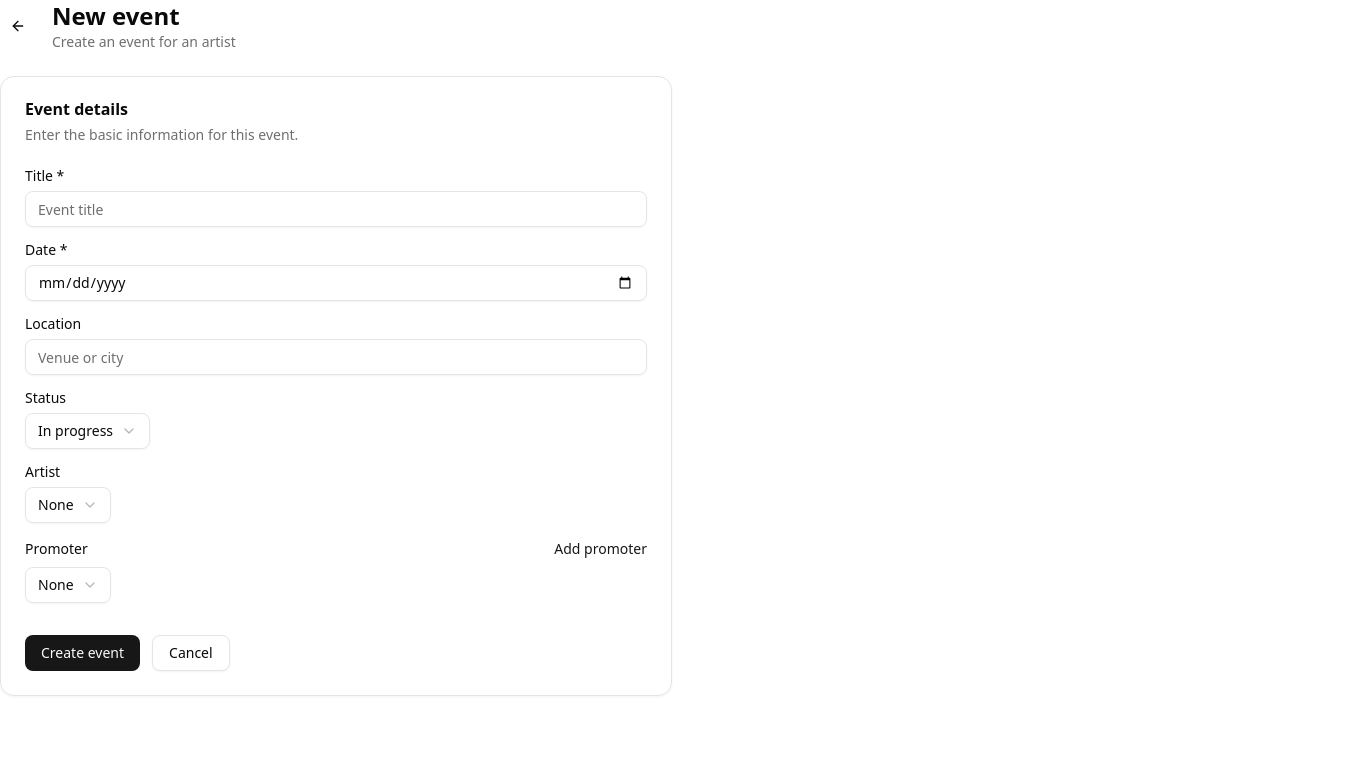
Scenario: adds a promoter from the new event form, selects it and keeps the event draft
Later steps or results of the test are not shown.
expect the button "Add promoter" is enabled: met, box [554,539,647,559]
In the field labelled "Title *": (336, 209) [25,191,647,227], type "Synthetic Night"
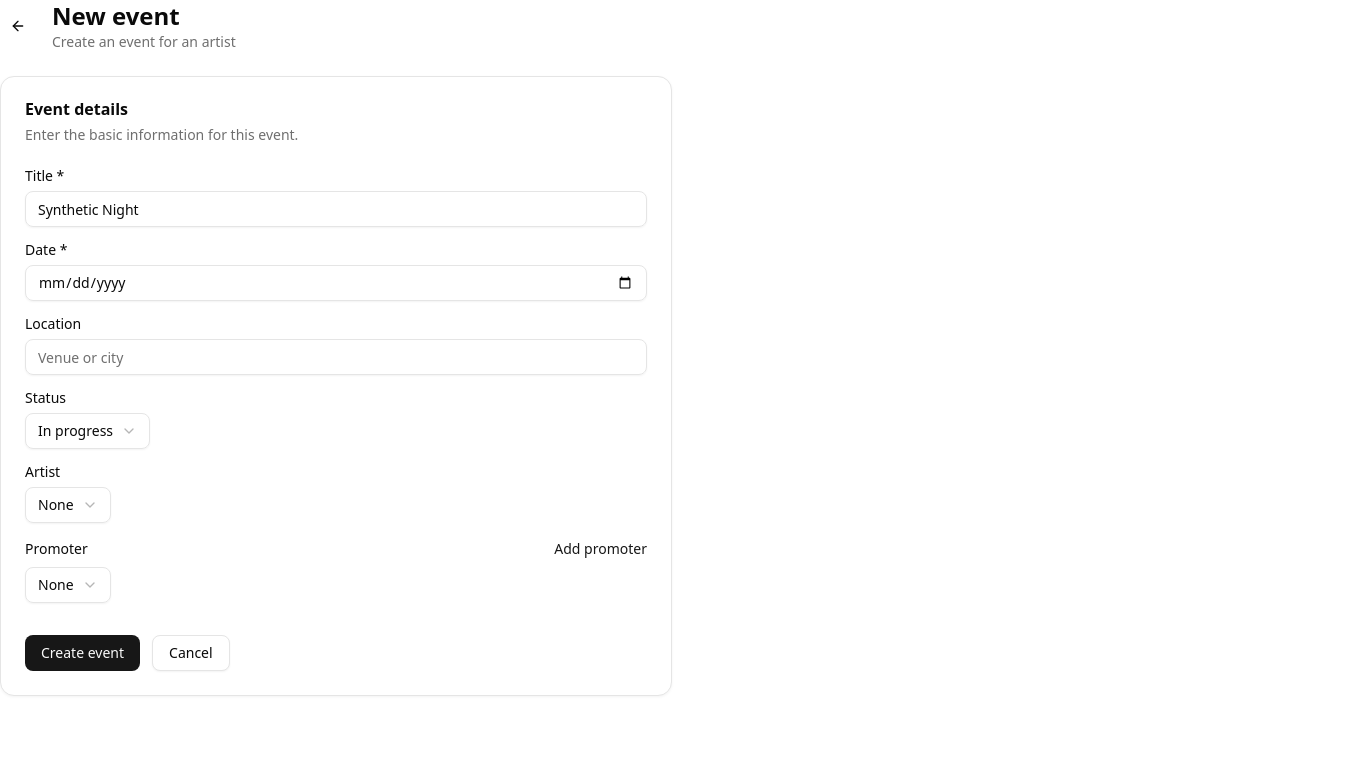
In the date field labelled "Date *": (336, 283) [25,265,647,301], type "2030-03-01"
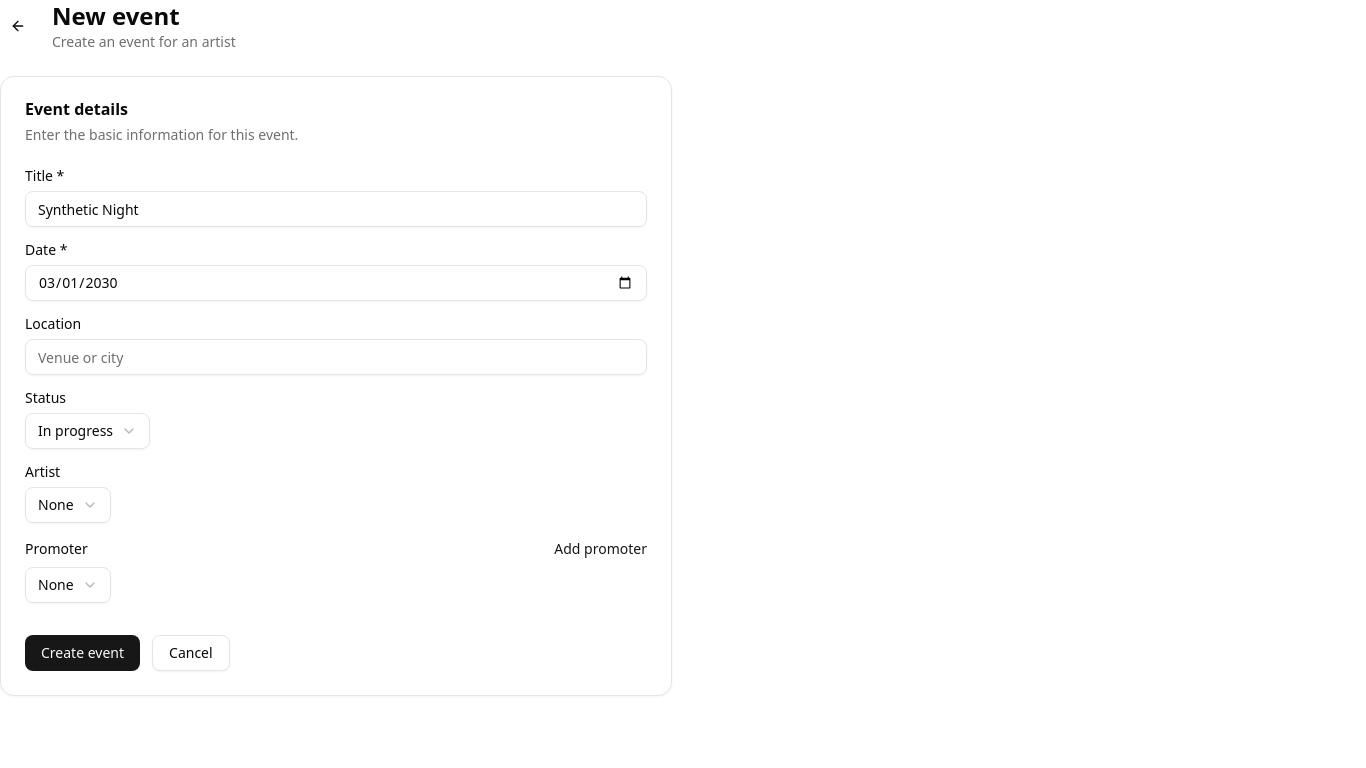
Click the button "Add promoter": (601, 549) [554,539,647,559]
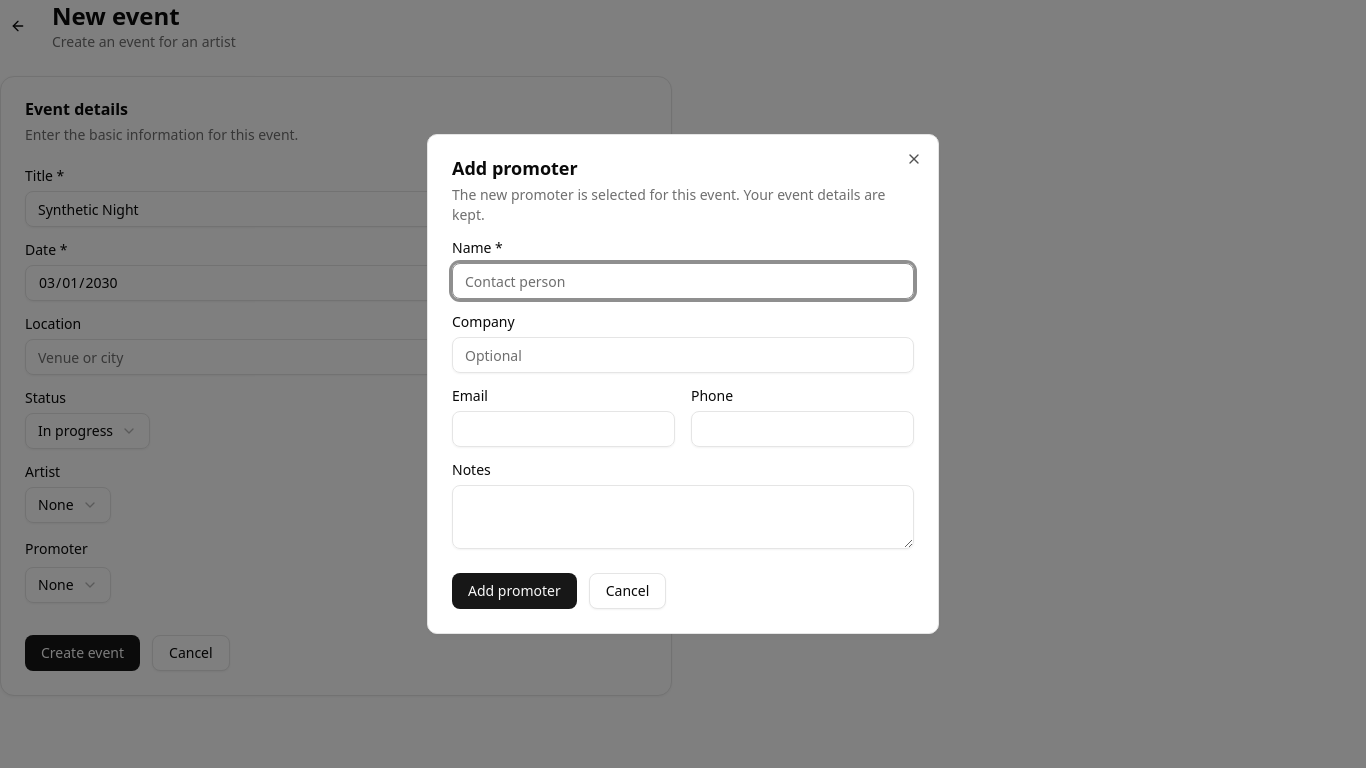
In the field labelled "Name *": (683, 281) [452,263,914,299], type "Marta Rossi"
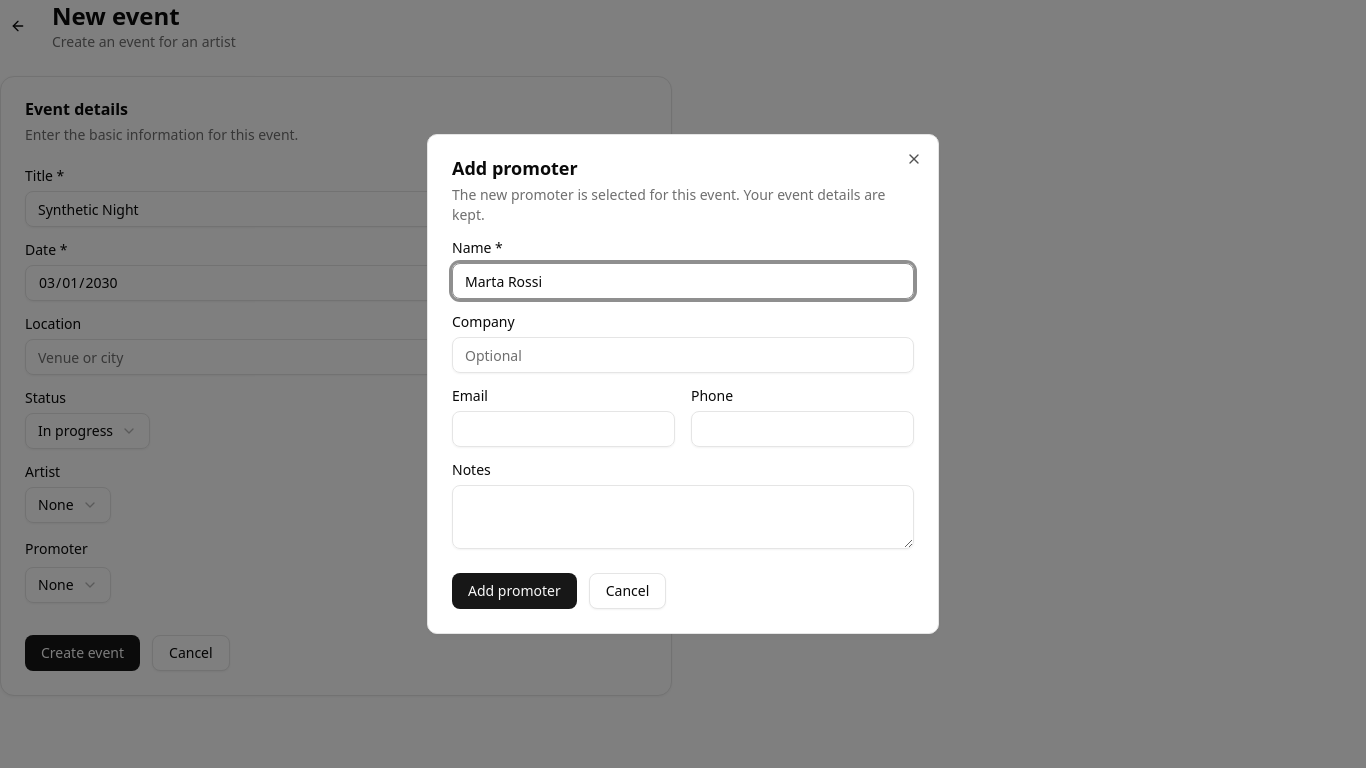
Click the button "Add promoter": (514, 591) [452,573,577,609]
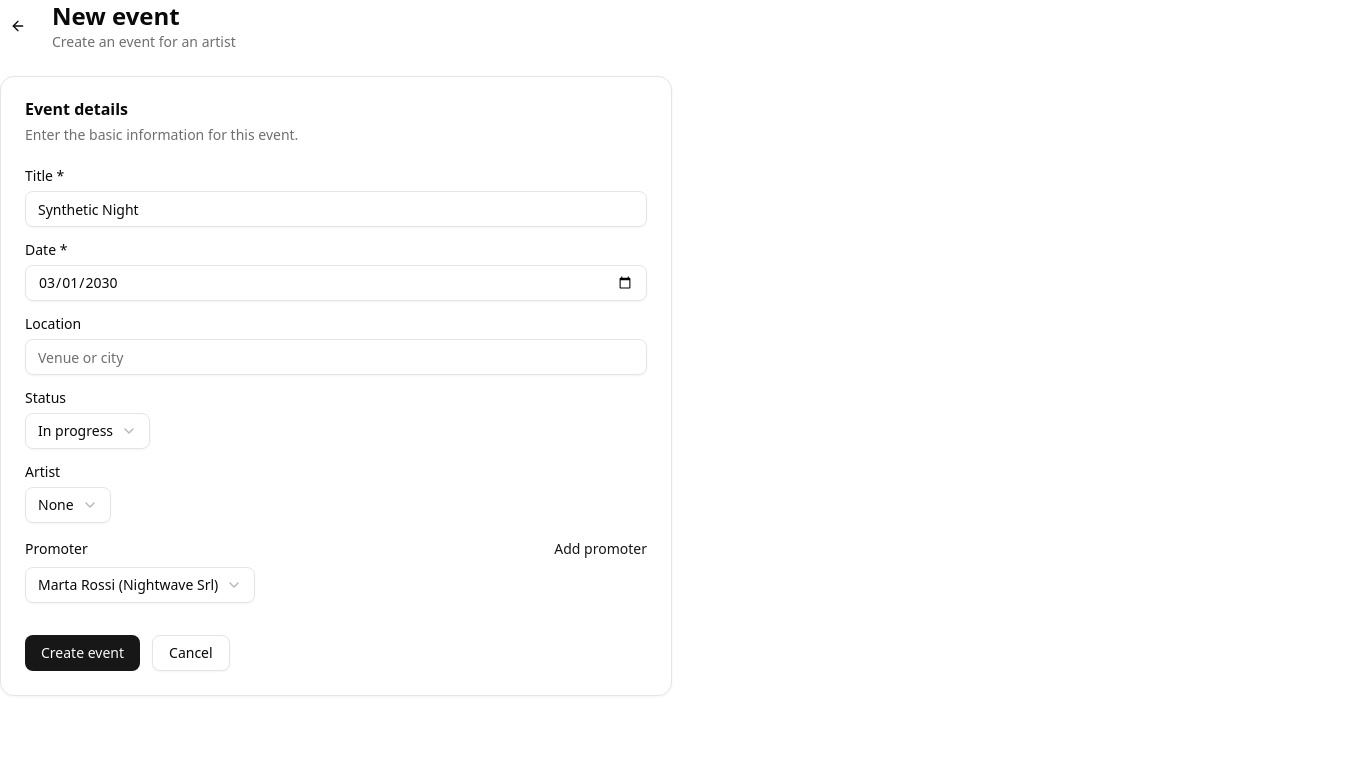
expect the dialog is gone: met
expect the dropdown labelled "Marta Rossi (Nightwave Srl)" is shown: met, box [25,567,255,603]
